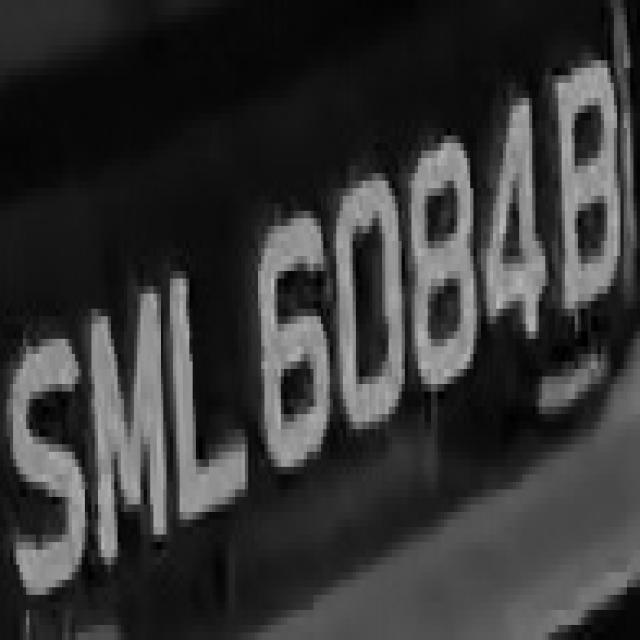0: (330, 166, 411, 452)
4: (477, 53, 552, 361)
6: (251, 181, 330, 489)
8: (402, 128, 483, 422)
B: (549, 52, 617, 324)
L: (166, 233, 252, 534)
M: (85, 263, 166, 595)
S: (7, 301, 92, 633)
